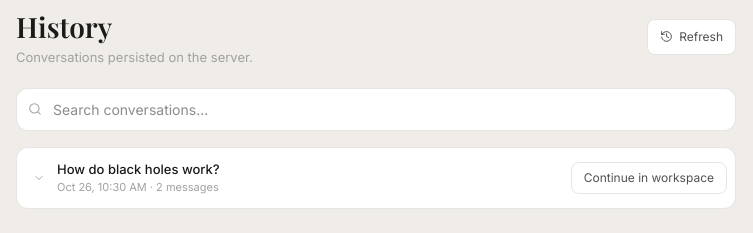
Test: HistoryView › filters by title and shows an empty state for no matches
The image size is (753, 233).
Expected: the text "How do black holes work?" is shown, [57,160,220,176]
Type "zzz" into the field with placeholder "Search conversations...".
click(376, 109); type("zzz")  # box [16,88,736,130]
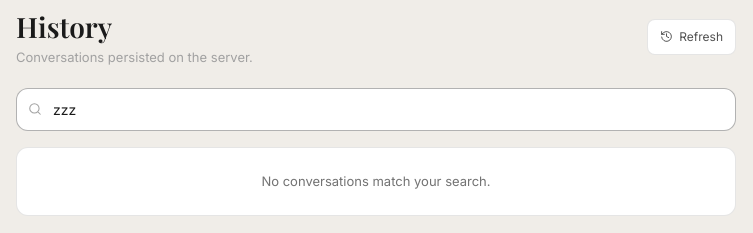
Expected: the text "No conversations match your search." is shown, [261,172,490,188]
